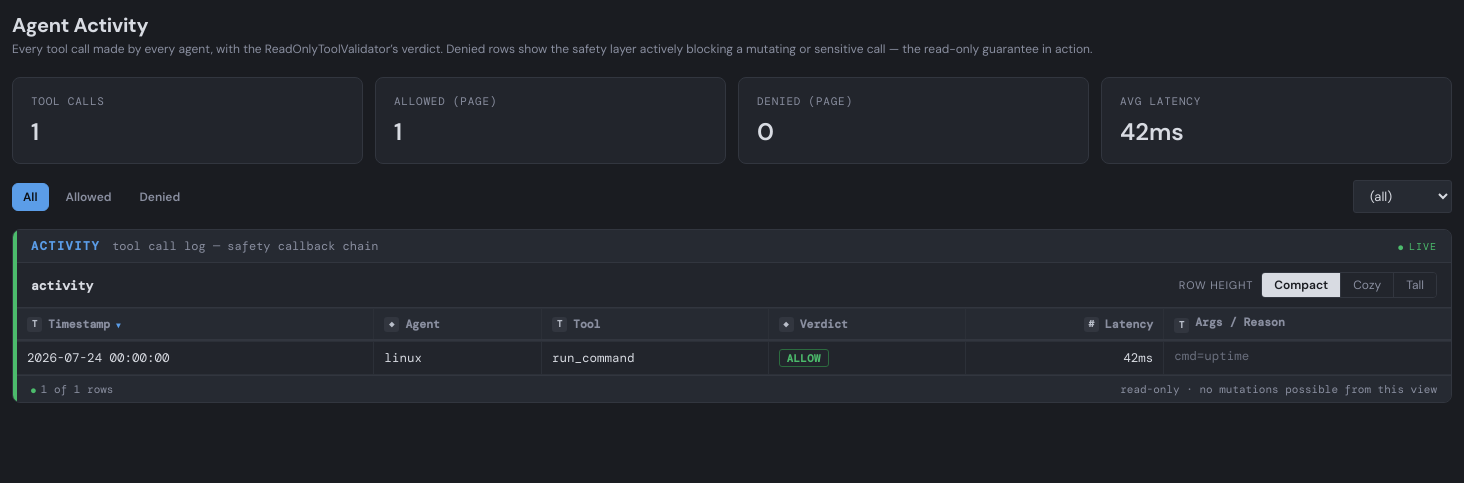
it: Activity page — Phase 3 design-system rebuild › shows a filter-zero empty state (not a false 'no data' message) when a filter matches nothing
expect the text "Tool Calls" is shown: met, box x1=31 y1=94 x2=105 y2=108
Click the button "Denied". click: point(160, 196)
box: x1=128 y1=182 x2=191 y2=210
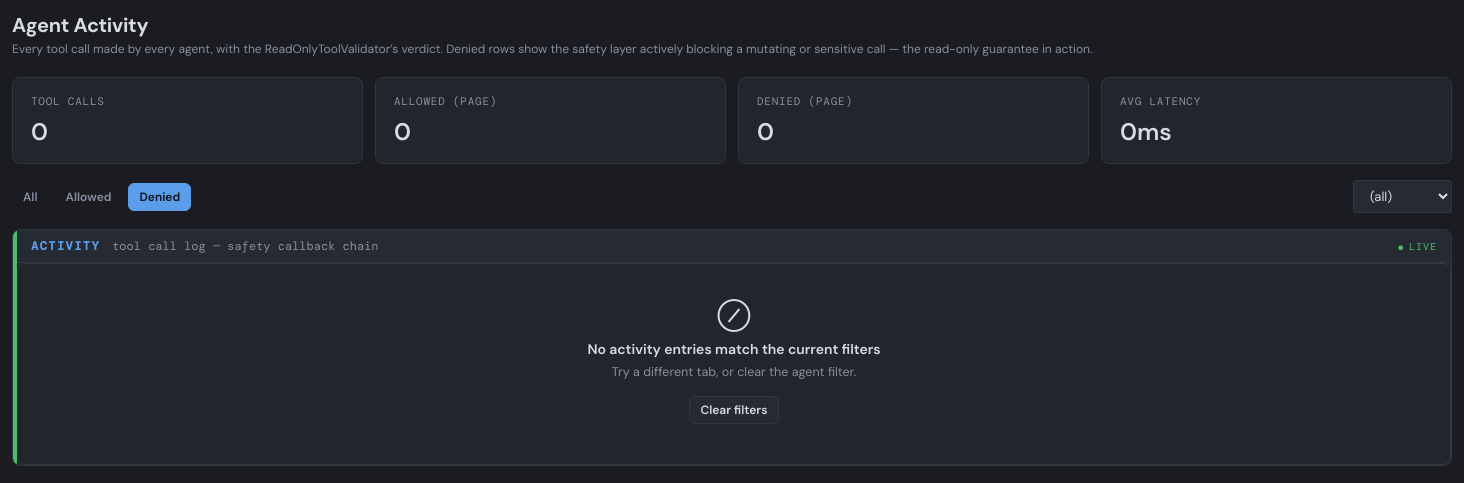
expect the text "No activity entries match the current filters" is shown: met, box x1=587 y1=340 x2=881 y2=358
